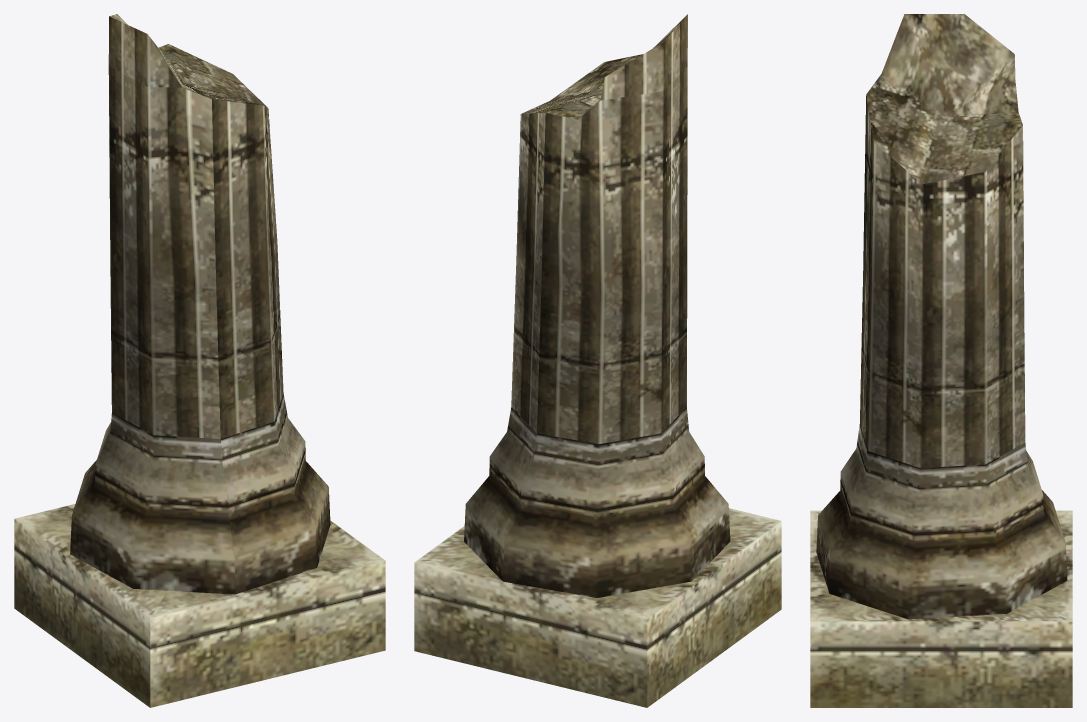
The model's file is OZ_26_mi_column02D.glb.
3 renders of one model, left to right at view 1: azimuth 30°, elevation 25°; view 2: azimuth 150°, elevation 25°; view 3: azimuth 270°, elevation 25°, orthographic. The views are drawn at different scales.
Parts seen in each view (by area): view 1: OM_26_mi_column02D; view 2: OM_26_mi_column02D; view 3: OM_26_mi_column02D.
Part boxes in pixels (bbox=[...]): OM_26_mi_column02D: bbox=[14, 14, 385, 707]; OM_26_mi_column02D: bbox=[414, 14, 781, 707]; OM_26_mi_column02D: bbox=[810, 14, 1072, 707].
Bounding box in the file's own units: 2.12 × 5.39 × 2.12.
Materials: 2 (2 with a texture image).
